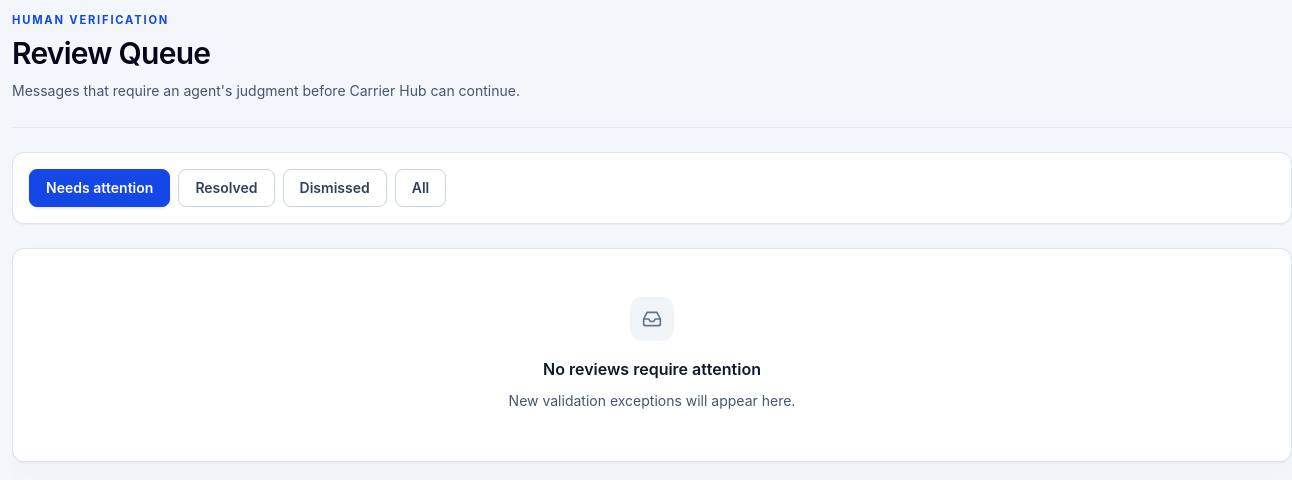
Test case: ReviewsPage history views › defaults to actionable and lets users reopen a terminal review read-only
Expected: the text "Messages that require an agent's judgment before Carrier Hub can continue." is shown, [12,79,520,103]
Click the button "Resolved" at (226, 188), box [178,169,275,207]
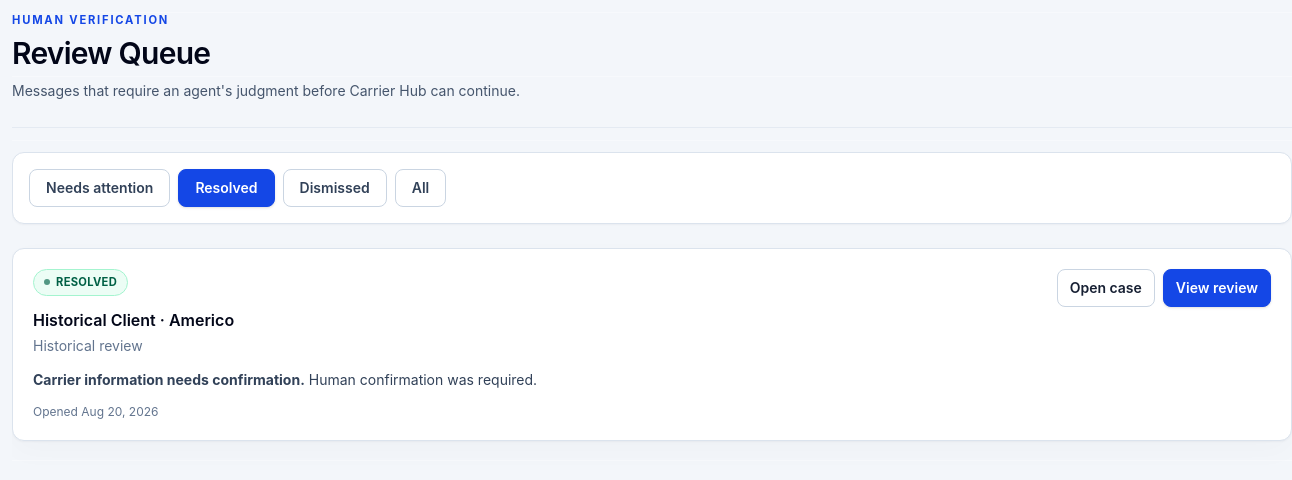
Now the heading "Historical Client · Americo" is shown, box [33,310,234,330]
